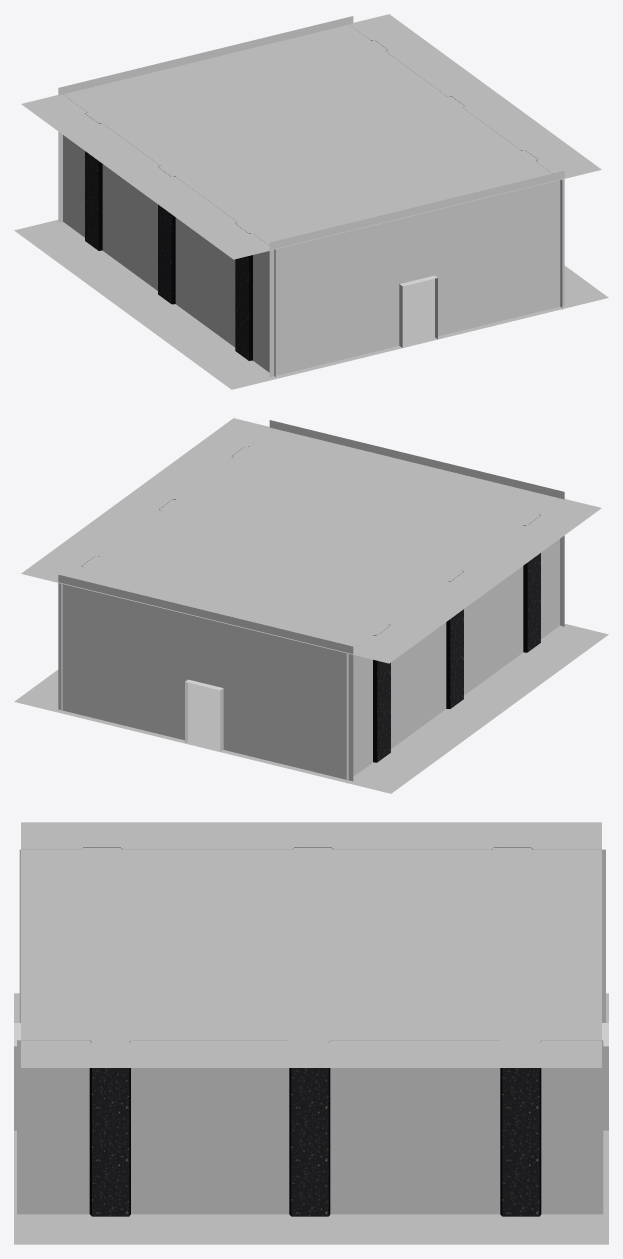
Rendered from LC_room2_servers.gltf.
The picture shows the model from 3 angles, top to bottom: view 1: azimuth 30°, elevation 25°; view 2: azimuth 150°, elevation 25°; view 3: azimuth 270°, elevation 25°; orthographic projection. The views are drawn at different scales.
Parts seen in each view (by area): view 1: Ceiling, DoorPath.001, LCZWallNeoCB2.002, Floor.001, DoorPath.004; view 2: Ceiling, DoorPath.004, LCZWallNeoCB2.002, Floor.001, DoorPath.001; view 3: Ceiling, LCZWallNeoCB2.001, Floor.001, LCZWallNeoCB2.002, DoorPath.004.
Boxes of the visible parts, box(x1,y1,x2,y2) form: Ceiling: box(21, 14, 601, 259); DoorPath.001: box(269, 170, 564, 377); LCZWallNeoCB2.002: box(63, 94, 275, 376); Floor.001: box(14, 220, 608, 389); DoorPath.004: box(58, 16, 353, 222); Ceiling: box(21, 418, 601, 663); DoorPath.004: box(58, 574, 353, 781); LCZWallNeoCB2.002: box(346, 498, 559, 783); Floor.001: box(14, 624, 608, 793); DoorPath.001: box(269, 420, 564, 626); Ceiling: box(21, 822, 601, 1067); LCZWallNeoCB2.001: box(17, 1040, 603, 1216); Floor.001: box(14, 993, 608, 1244); LCZWallNeoCB2.002: box(19, 847, 605, 1022); DoorPath.004: box(602, 1023, 608, 1130).
Size of the model in its own units: 20.48 by 7.1 by 20.48.
